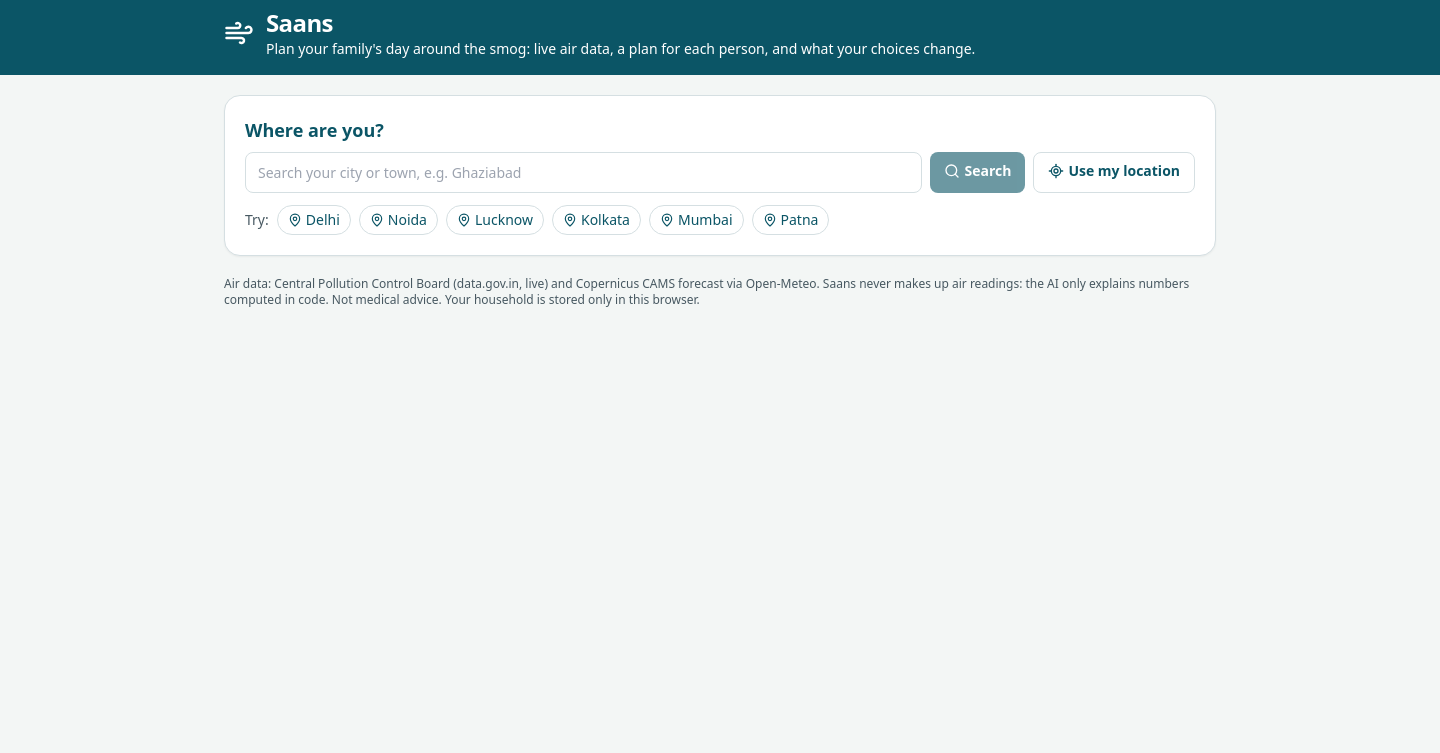
Saans › home air reacts to a bigger purifier
Click the button "Delhi" at (314, 220), box [277,205,351,235]
(page scrolled)
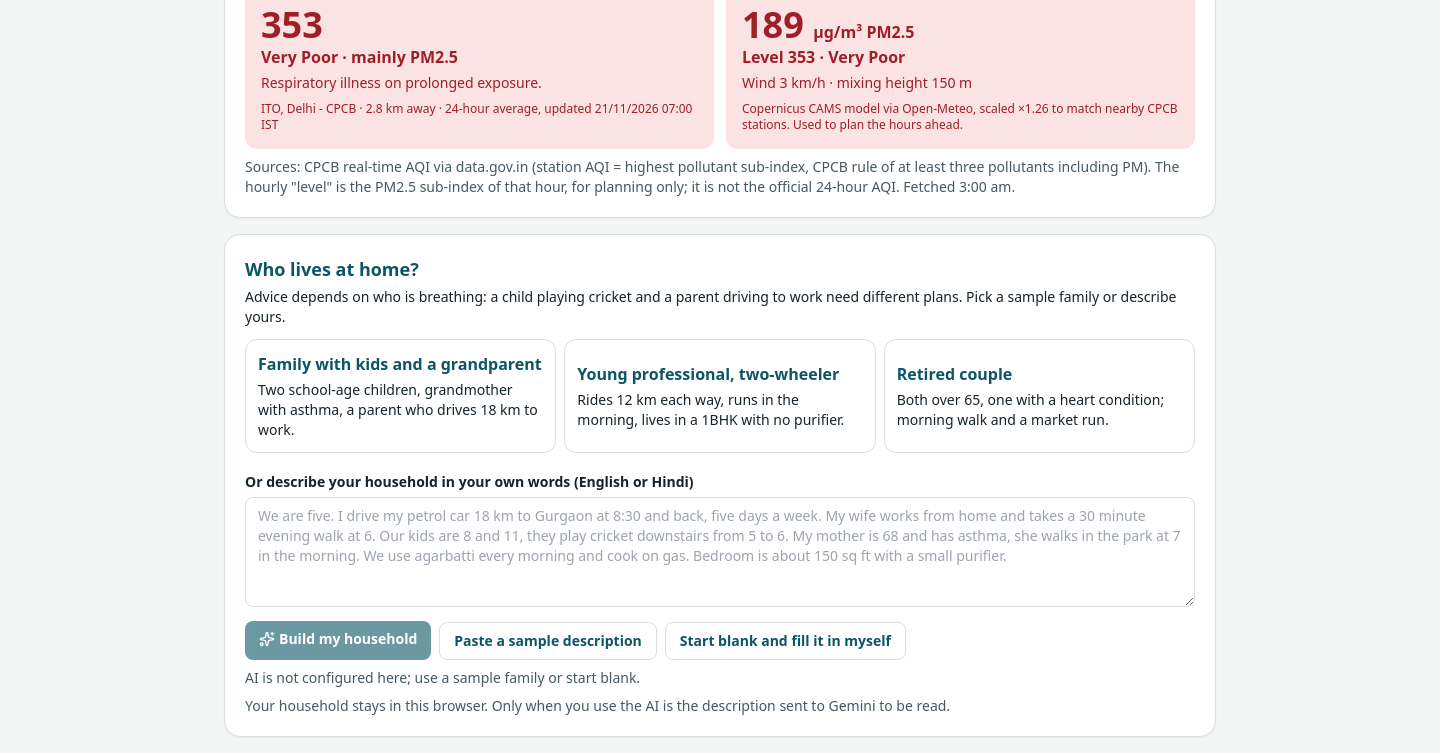
Click the button "Family with kids and a grandparent" at (401, 396), box [245,339,556,453]
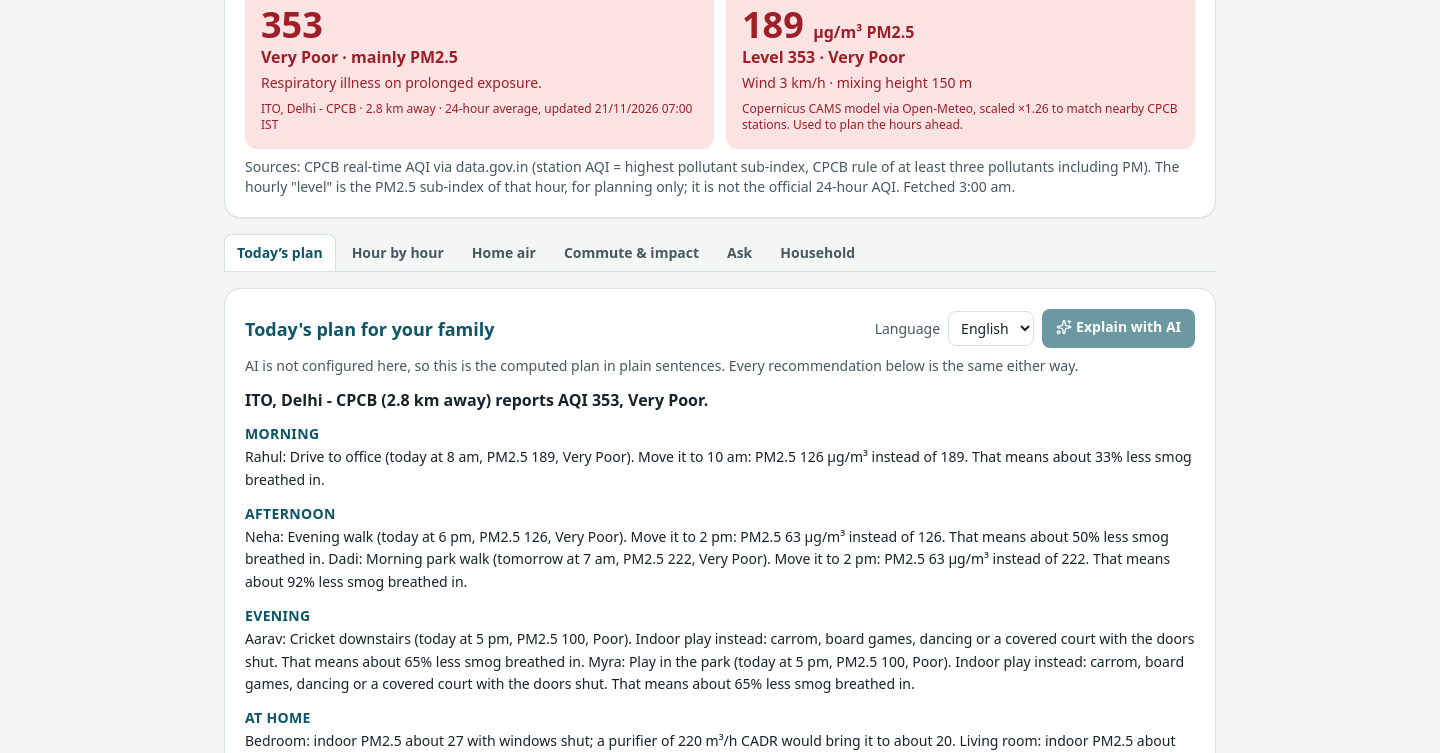
Expected: the heading "Today's plan for your family" is shown, [245,314,494,342]
Click the tab "Home air" at (504, 252), box [460,234,548,271]
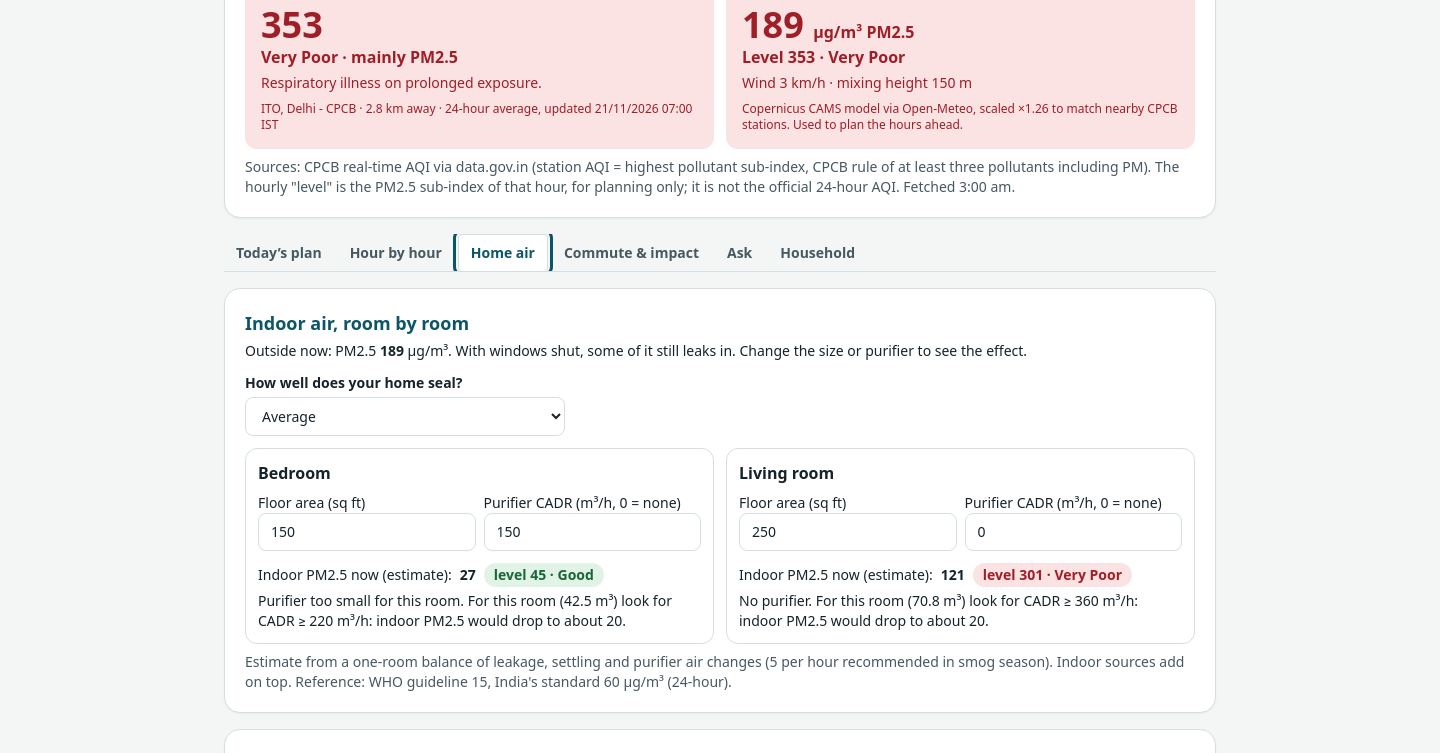
Expected: the text "No purifier." is shown, [739,591,816,610]
Replace the text in the number field labelled "Purifier CADR (m³/h, 0 = none)" below "Living room" with "400" at (1073, 532), box [964,513,1182,551]
(page scrolled)
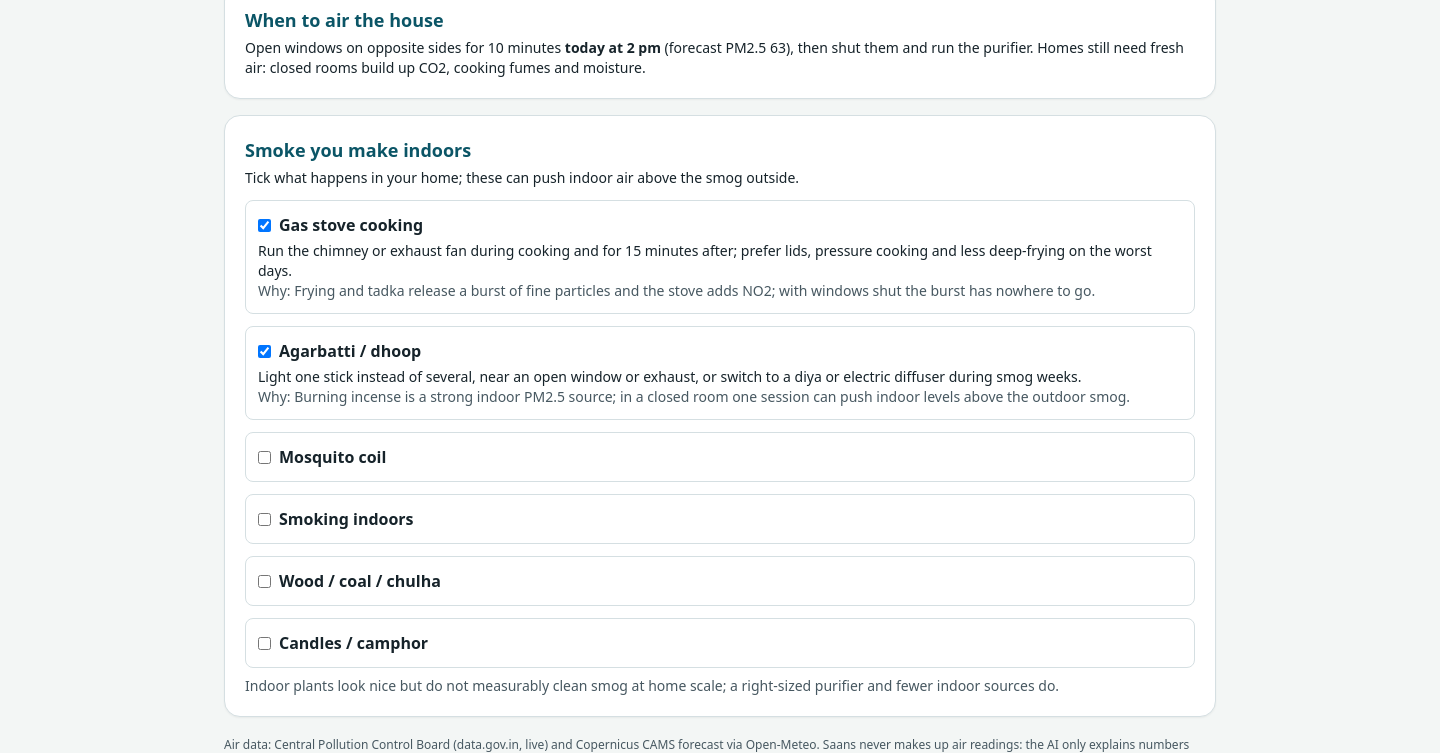
Expected: the text "No purifier." is gone
Click the checkbox labelled "Mosquito coil" at (264, 457), box [258,450,271,464]
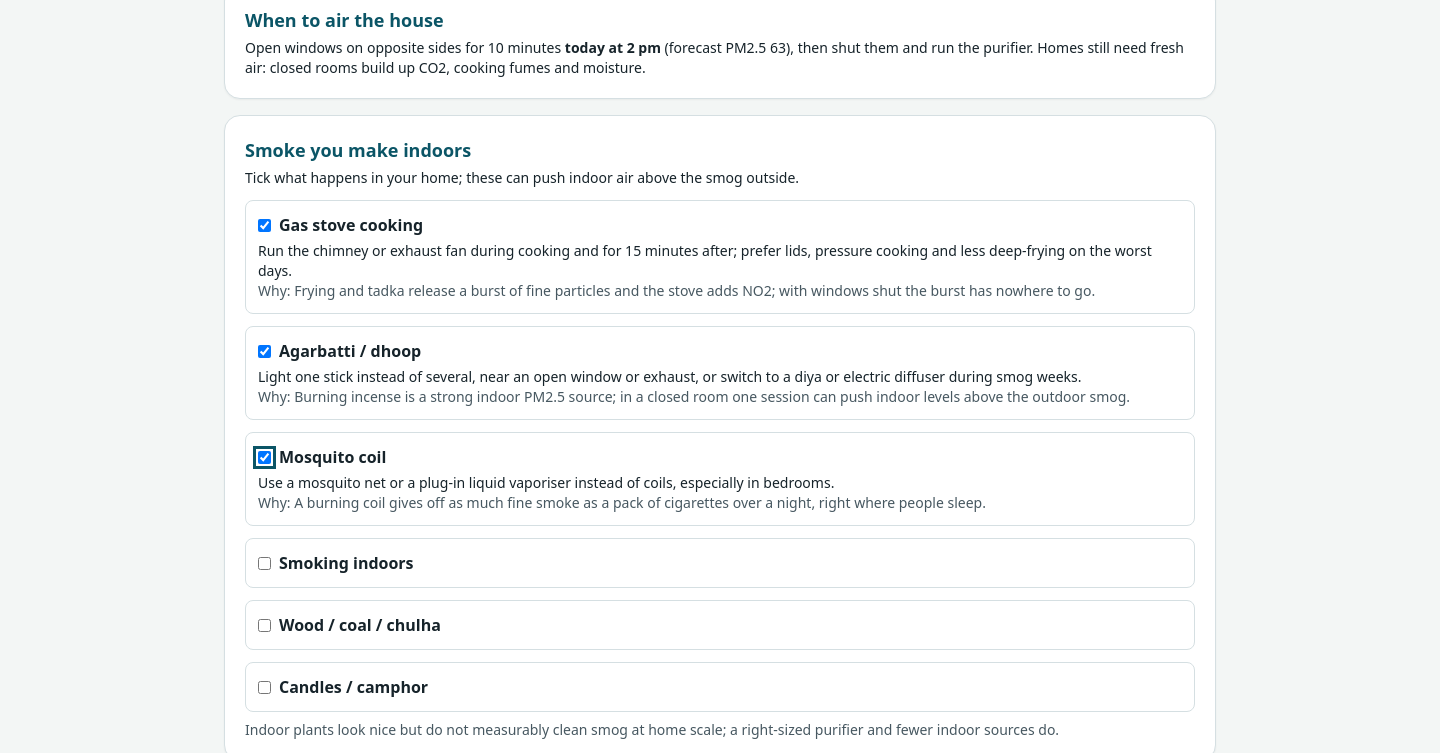
Expected: the text "mosquito net" is shown, [258,473,834,492]
